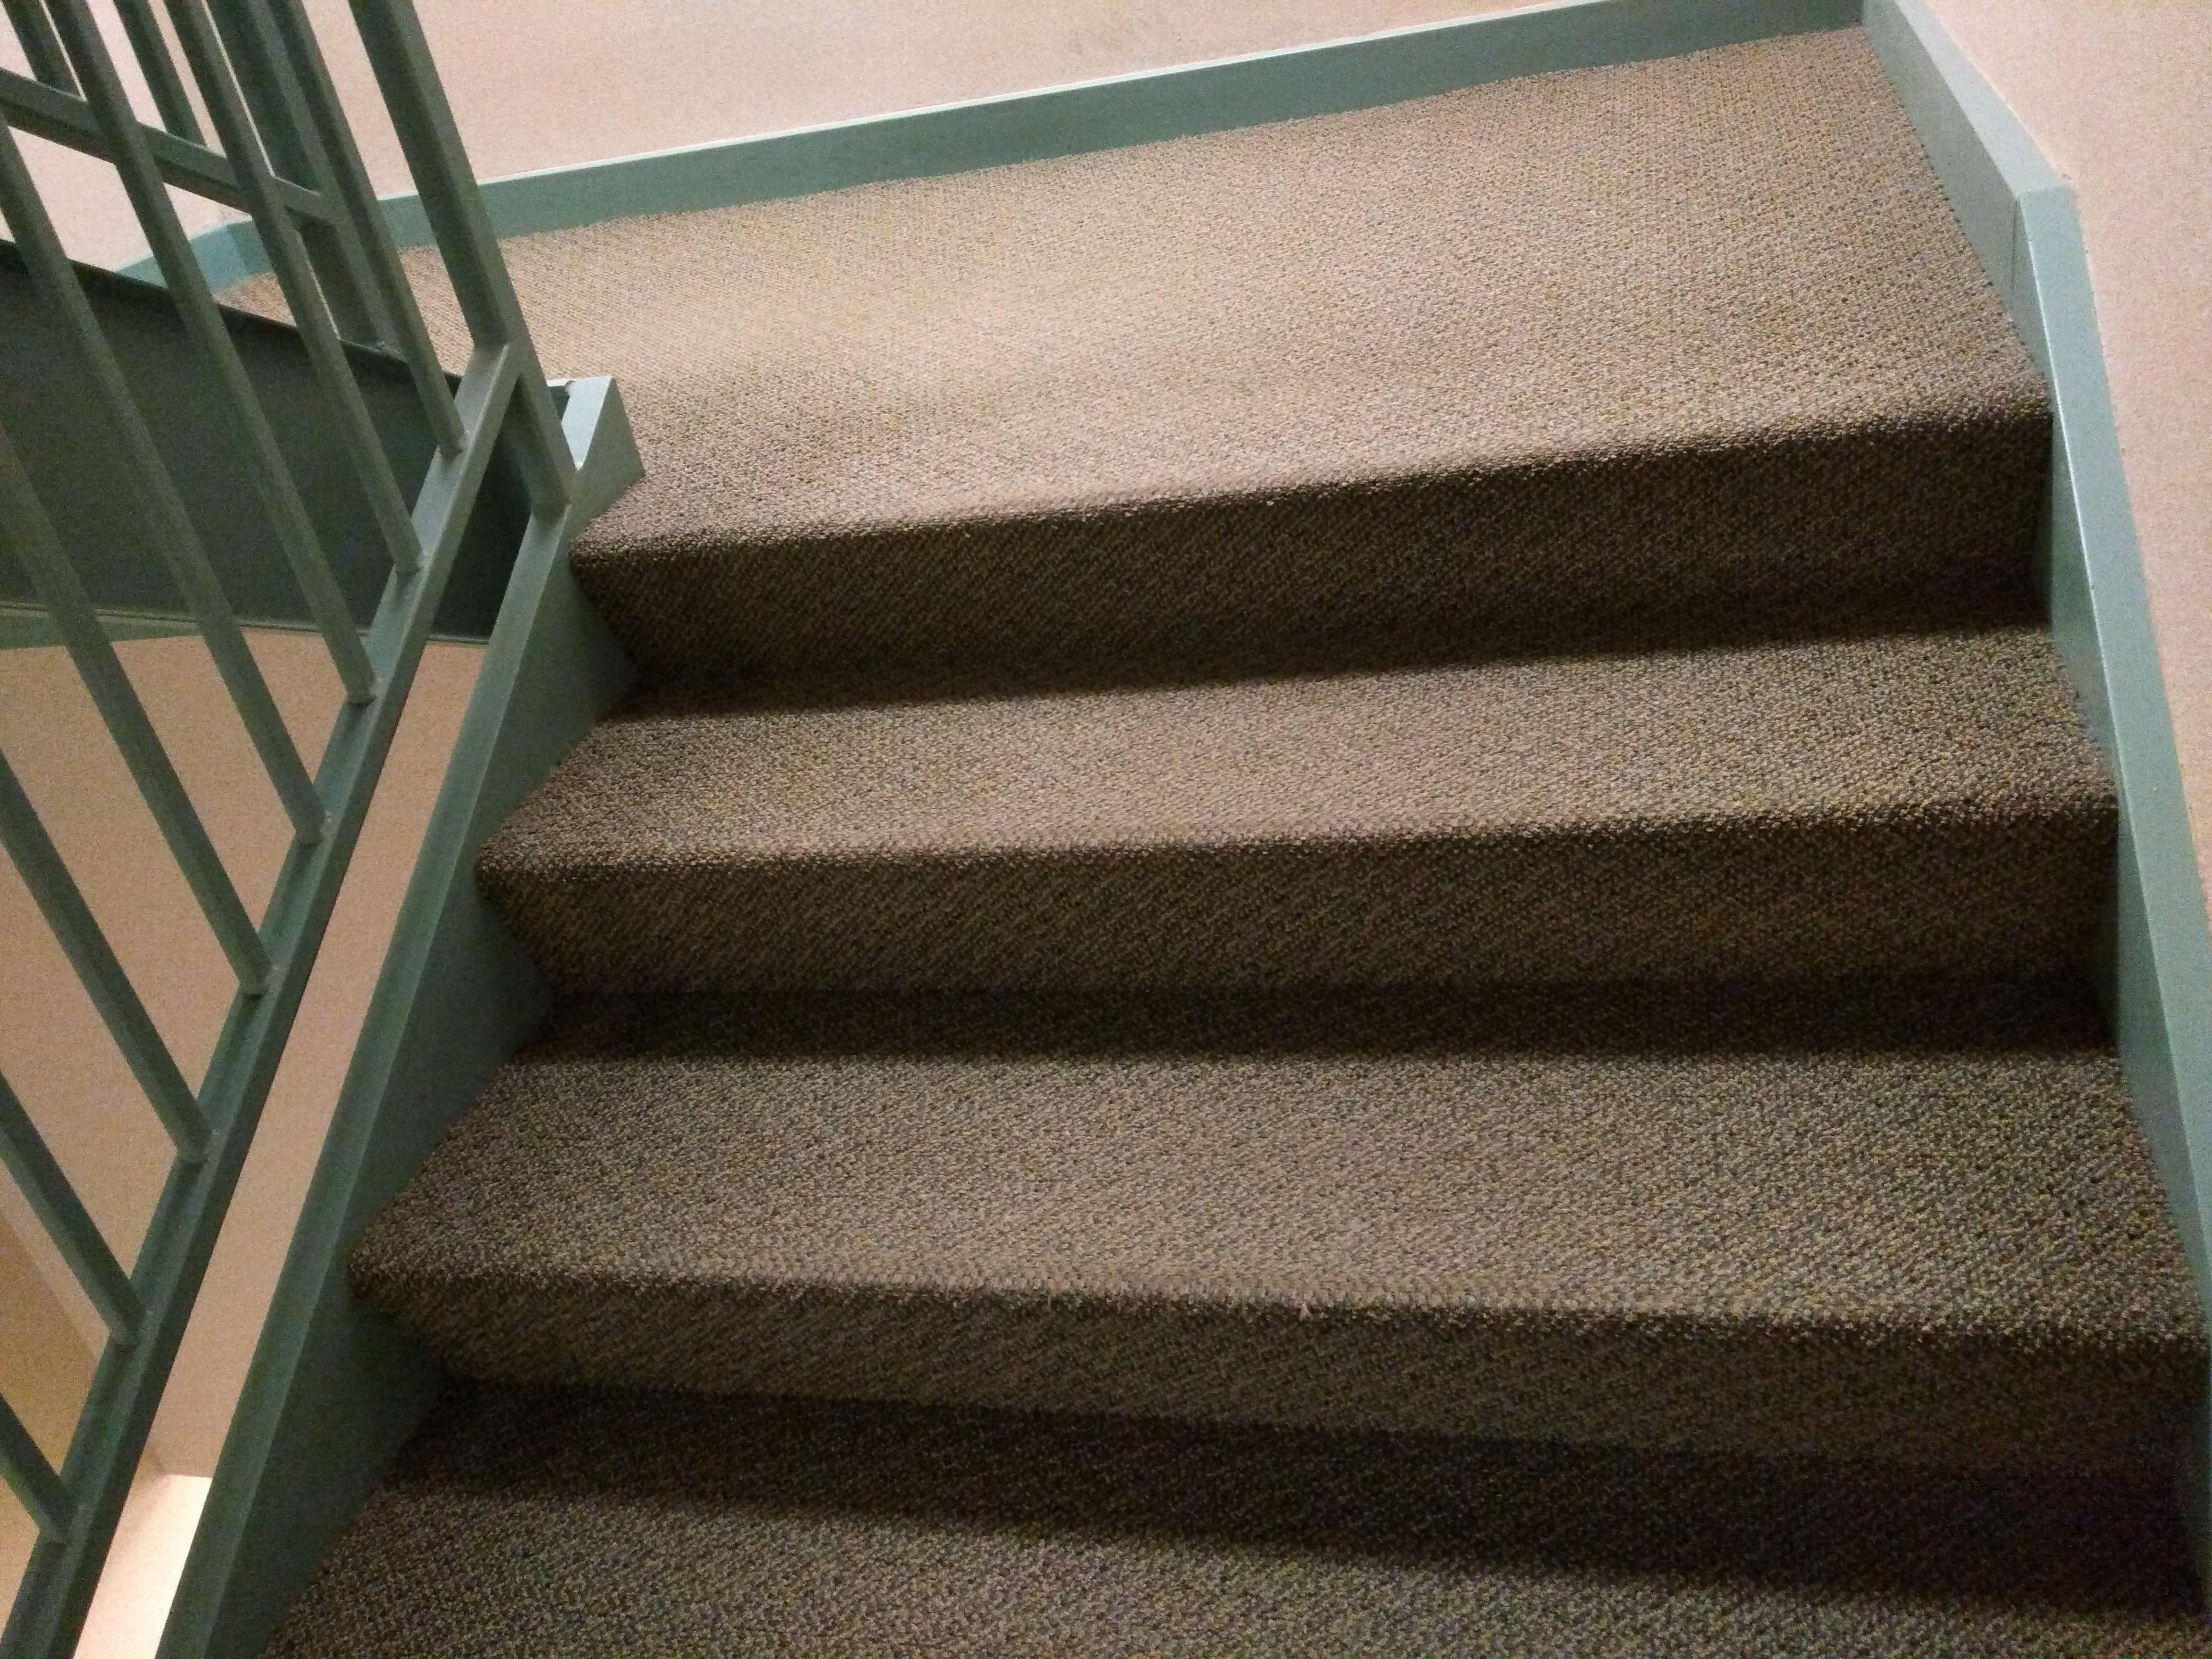stairs_up: (235, 436, 2203, 1610)
